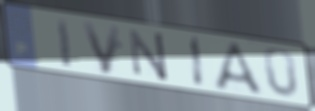0: (261, 46, 301, 100)
A: (212, 40, 268, 99)
I: (54, 16, 76, 70), (189, 33, 207, 90)
N: (126, 27, 171, 84)
V: (78, 20, 123, 77)
